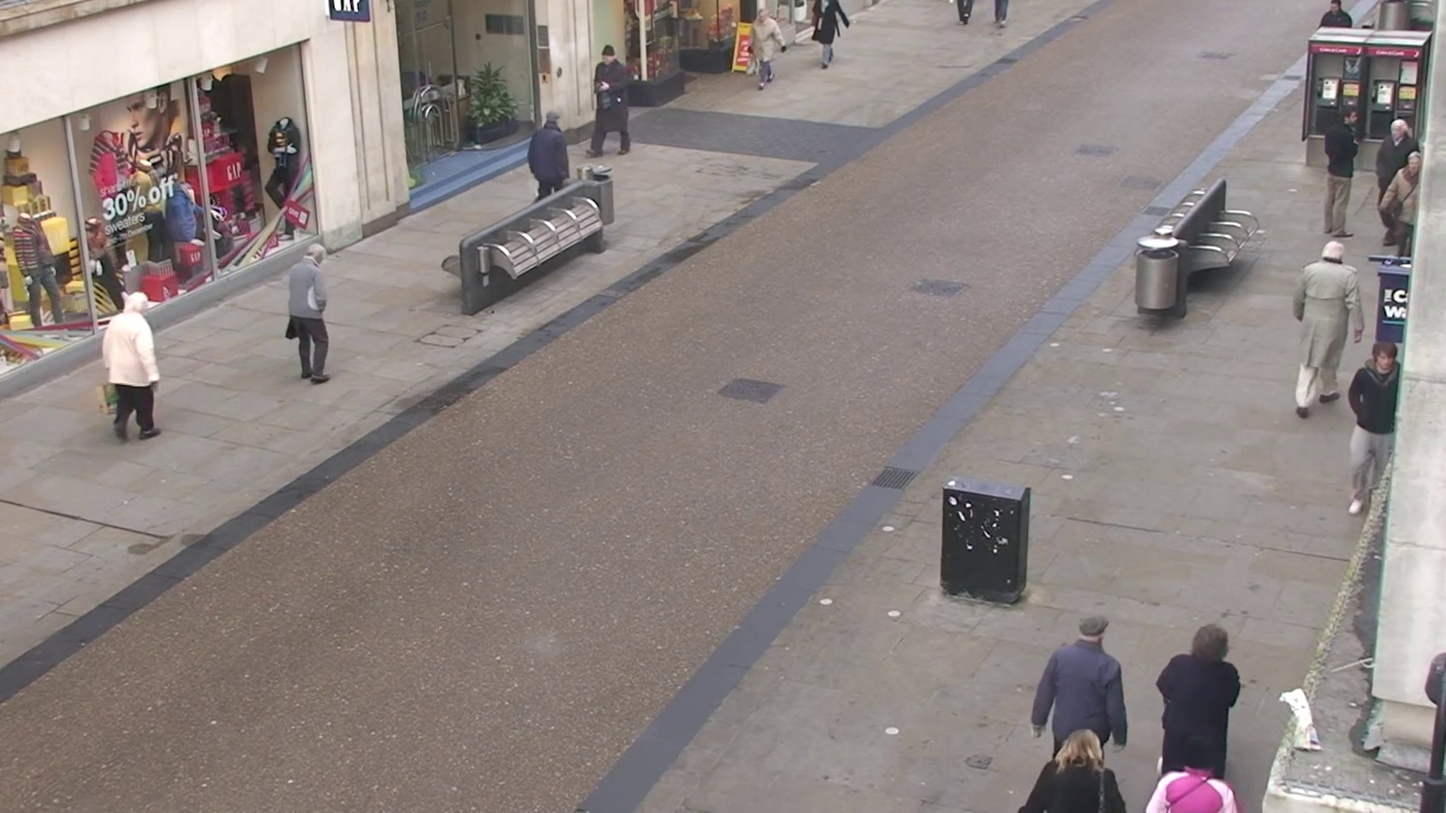person: (1029, 617, 1131, 757), (1155, 623, 1243, 784), (1292, 236, 1364, 420), (1345, 339, 1399, 516), (101, 288, 163, 441), (1020, 729, 1127, 813), (285, 242, 333, 383), (1374, 117, 1423, 254), (1322, 108, 1360, 239), (590, 45, 633, 157), (1144, 768, 1238, 813), (527, 110, 569, 196), (810, 0, 852, 69), (752, 2, 783, 88)
